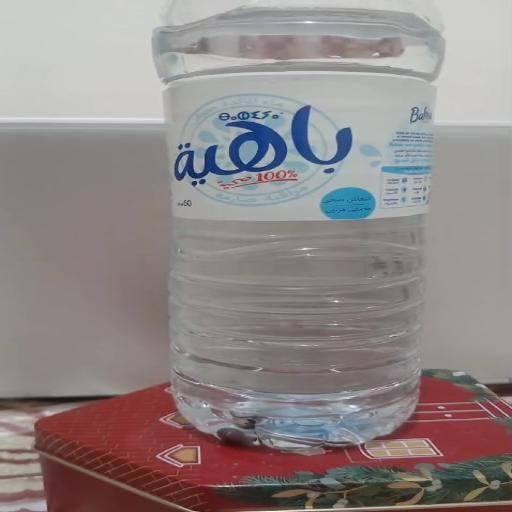bouteille non conformite: (142, 0, 456, 457)
